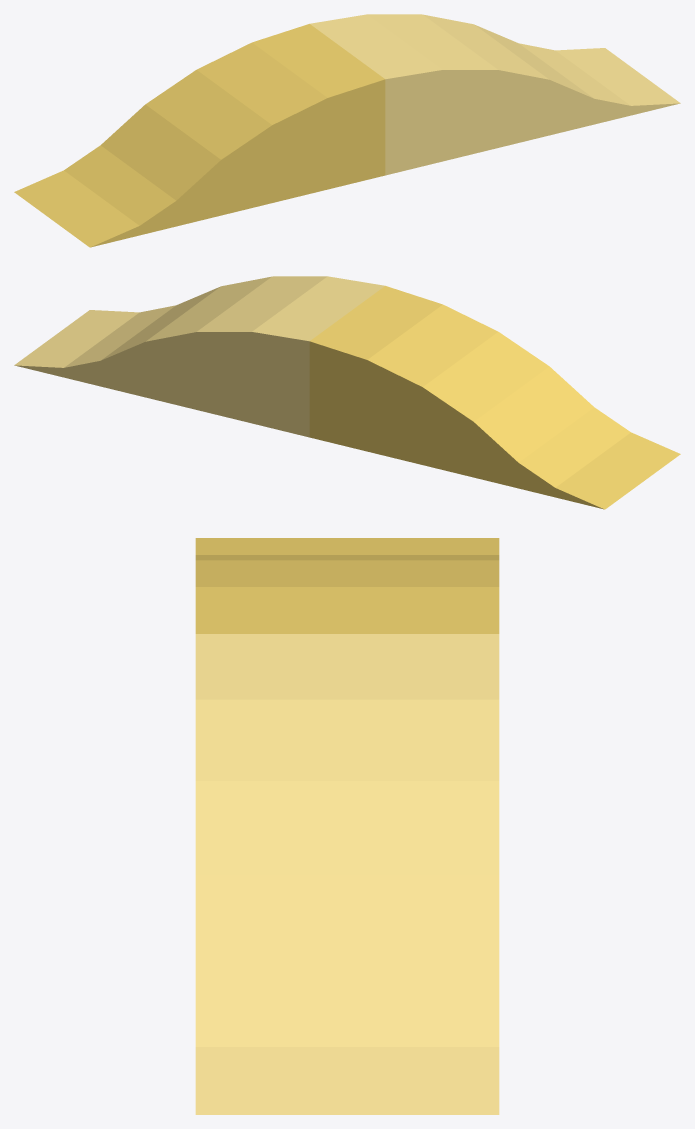
File: island-oval.fbx
3 views of the same model, one above another, from view 1: azimuth 30°, elevation 25°; view 2: azimuth 150°, elevation 25°; view 3: azimuth 270°, elevation 25° (orthographic). The views are drawn at different scales.
Visible parts, largest first — view 1: Circle; view 2: Circle; view 3: Circle.
Boxes of the visible parts, x1,y1,x2,y2 form: Circle: (14,14,680,247); Circle: (14,276,680,509); Circle: (195,538,499,1114).
Size of the model in its own units: 180000 by 28000 by 40000.
